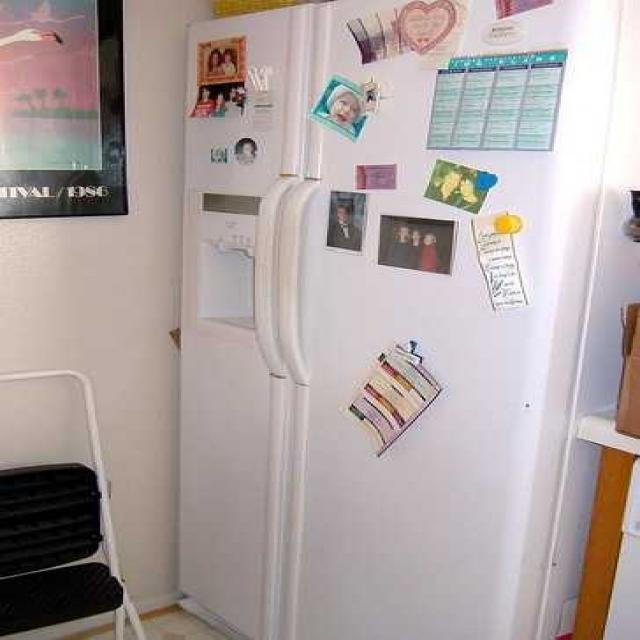refrigerator: (170, 0, 620, 640)
